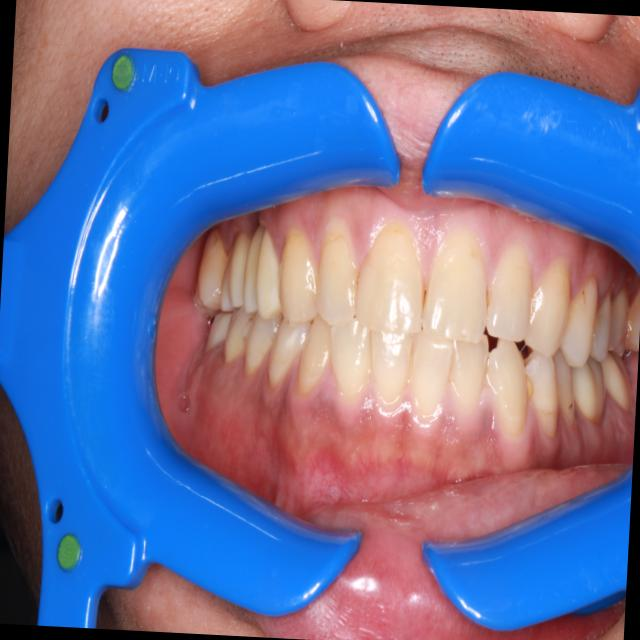tooth: (351, 213, 429, 342), (420, 223, 493, 345), (312, 211, 364, 328), (484, 237, 536, 350), (483, 330, 536, 439), (405, 320, 458, 426), (524, 249, 574, 361), (516, 333, 565, 439), (275, 220, 322, 329), (365, 318, 416, 410), (326, 313, 376, 400), (559, 271, 602, 371), (291, 309, 338, 400), (447, 325, 494, 414), (189, 220, 232, 316), (563, 346, 610, 428), (264, 318, 314, 394), (253, 217, 289, 322), (594, 339, 639, 414), (217, 229, 255, 316), (240, 304, 282, 382), (547, 344, 583, 429), (239, 218, 267, 317), (221, 304, 259, 368), (603, 282, 634, 360), (589, 282, 616, 366), (200, 301, 238, 359), (623, 271, 640, 355)
